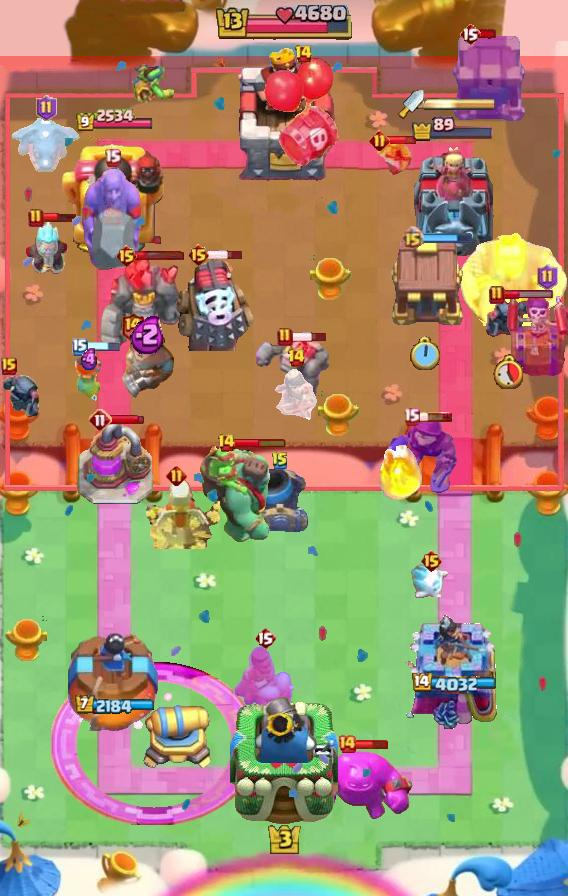archer-queen: (79, 168, 145, 280)
bar: (409, 142, 497, 256)
bat: (410, 562, 452, 604)
battle-ram: (482, 296, 534, 340), (0, 373, 44, 421)
bomb: (386, 234, 466, 328), (448, 35, 526, 123)
cannoneer-tower: (98, 254, 184, 350)
clock: (213, 5, 355, 43)
clone: (304, 749, 414, 823)
electro-spirit: (130, 314, 166, 354), (80, 349, 101, 372)
elite-barbarian: (233, 645, 297, 725)
elixir: (410, 335, 442, 372), (493, 355, 523, 390)
emote: (233, 437, 286, 449), (421, 232, 473, 244), (502, 288, 553, 300), (135, 250, 185, 261), (207, 249, 244, 261), (292, 331, 329, 343), (85, 341, 121, 353), (417, 411, 453, 423), (109, 414, 145, 426), (42, 213, 78, 224), (355, 738, 389, 749), (387, 135, 419, 145), (478, 28, 498, 40)
fireball: (385, 413, 459, 494)
giant-skeleton: (458, 232, 568, 326)
giant-snowball: (131, 62, 179, 104)
golem: (173, 259, 257, 351)
graveyard: (11, 114, 81, 176)
hog-rider: (70, 352, 108, 404)
king-tower: (229, 43, 339, 181), (230, 692, 338, 826)
king-tower-bar: (424, 97, 496, 111)
knight-evolution: (51, 662, 258, 826)
lava-hound: (198, 442, 282, 548)
mortar: (16, 218, 78, 278)
musketeer: (250, 468, 310, 532)
pekka: (77, 424, 155, 506)
phoenix-small: (118, 330, 178, 402)
poison: (132, 475, 220, 549)
queen-tower: (406, 614, 503, 730), (68, 633, 160, 731)
royal-recruit: (138, 689, 212, 773)
royal-recruit-evolution: (263, 56, 343, 170)
selected: (411, 116, 495, 142), (74, 108, 154, 133), (410, 673, 496, 695), (74, 695, 154, 716)
skeleton-dragon: (273, 369, 319, 427)
skeleton-king-bar: (506, 290, 568, 376)
text: (119, 310, 144, 341), (114, 244, 138, 268), (88, 408, 112, 432), (400, 226, 423, 250), (187, 243, 210, 267), (420, 549, 443, 573), (36, 95, 57, 121), (538, 264, 559, 290), (459, 22, 481, 46), (254, 626, 276, 650), (369, 129, 390, 151), (165, 465, 186, 487), (337, 734, 357, 754), (294, 44, 313, 64), (287, 348, 306, 368), (216, 433, 235, 453), (271, 451, 289, 471), (103, 148, 121, 167), (403, 407, 421, 426), (28, 208, 44, 228), (489, 285, 505, 305), (277, 327, 293, 347), (72, 338, 88, 356), (1, 357, 17, 375)
tower-bar: (60, 138, 168, 256)
valkyrie: (374, 437, 424, 503)
valkyrie-evolution: (255, 336, 333, 400)
zap: (377, 138, 413, 178)
